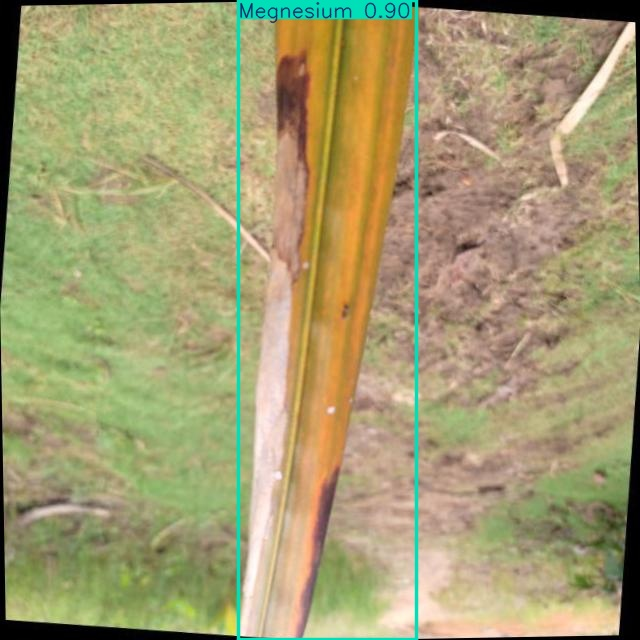Megnesium: (238, 1, 417, 640)
